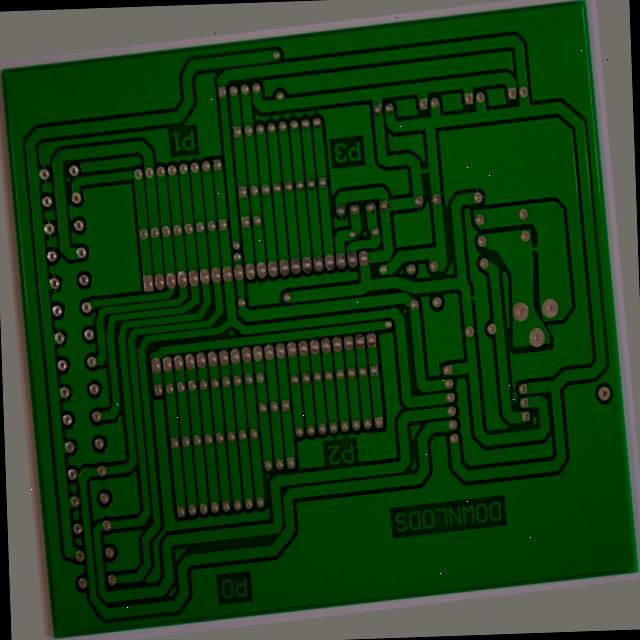short: (537, 246, 564, 279), (427, 149, 453, 183), (469, 294, 495, 326)
